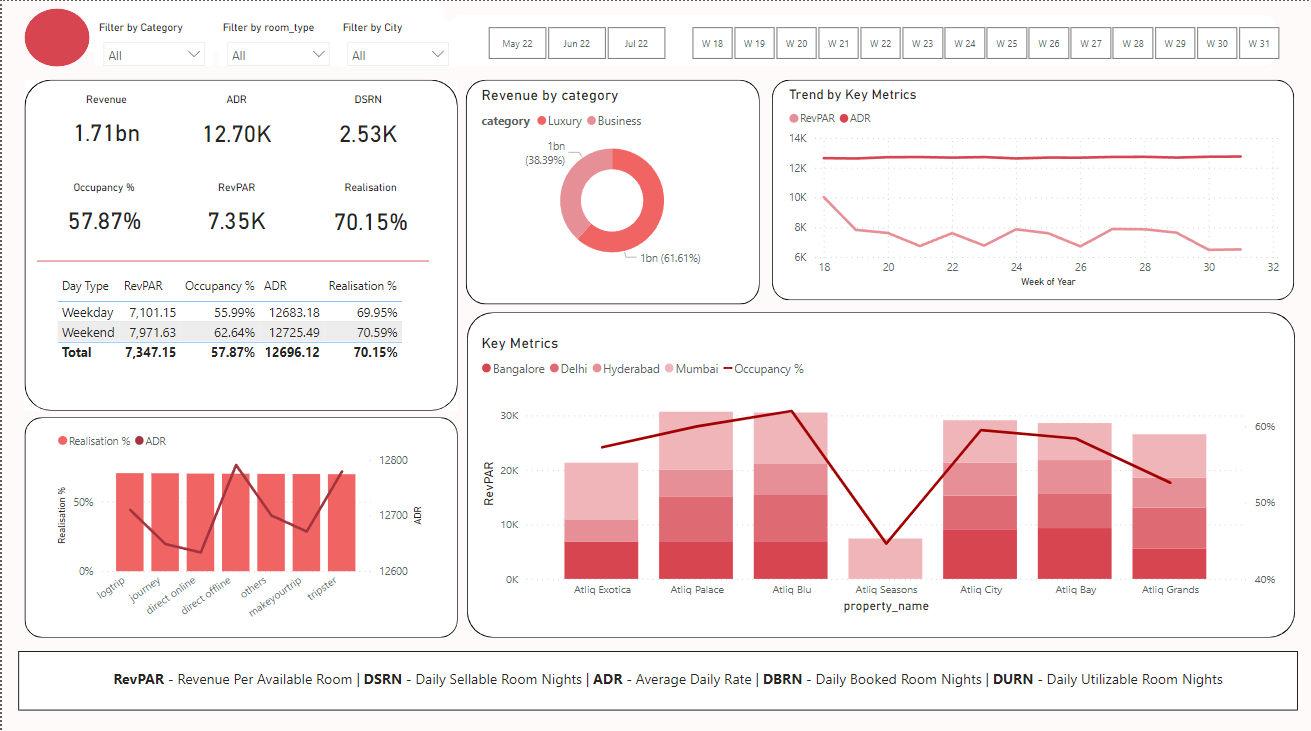

Layout of this report page (visuals, bound fields, positions):
{"tool":"powerbi","page":{"name":"Page 1","canvas":[1500,840],"ordinal":0},"visuals":[{"type":"shape","box":[18.9,743.3,1462.2,67.8],"z":0},{"type":"shape","box":[530.3,89.3,336,257],"z":1000},{"type":"shape","box":[25.3,476.3,495,252],"z":2000},{"type":"shape","box":[71,0,435,58],"z":3000},{"type":"shape","box":[25.3,89.3,495,378.8],"z":4000},{"type":"card","title":"ADR","fields":{"Values":["Measures Table.ADR"]},"box":[204.2,106.1,127,75],"z":5000},{"type":"card","title":"Revenue","fields":{"Values":["Measures Table.Revenue"]},"box":[55.1,106.4,127.3,74.5],"z":6000},{"type":"card","title":"Occupancy %","fields":{"Values":["Measures Table.Occupancy %"]},"box":[53.3,206.4,127.3,74.5],"z":7000},{"type":"card","title":"RevPAR","fields":{"Values":["Measures Table.RevPAR"]},"box":[204.2,206.4,127.3,74.5],"z":8000},{"type":"card","title":"DSRN","fields":{"Values":["Measures Table.DSRN"]},"box":[354.2,106.2,128,75.5],"z":9000},{"type":"card","title":"Realisation","fields":{"Values":["Measures Table.Realisation %"]},"box":[354.2,206.2,133.6,76.4],"z":10000},{"type":"slicer","title":"Filter by City","fields":{"Values":["dim_hotels.city"]},"box":[384.3,22.3,136,53],"z":11000},{"type":"slicer","title":"Filter by Category","fields":{"Values":["dim_hotels.category"]},"box":[106.3,22.3,136,51],"z":12000},{"type":"slicer","title":"Filter by room_type","fields":{"Values":["fact_bookings.room_category"]},"box":[247.3,22.3,137,51],"z":13000},{"type":"shape","box":[511.8,15.6,945,58],"z":14000},{"type":"slicer","title":"Month","fields":{"Values":["dim_date.mmm yy"]},"box":[530.3,22.3,252,50],"z":15000},{"type":"slicer","fields":{"Values":["dim_date.WEEK NUMBER"]},"box":[763.3,22.3,721,50],"z":16000},{"type":"tableEx","fields":{"Values":["dim_date.Day Type","Measures Table.RevPAR","Measures Table.Occupancy %","Measures Table.ADR","Measures Table.Realisation %"]},"box":[56.5,310.6,433.8,137.5],"z":17000},{"type":"shape","box":[39.7,280.4,447.8,34.4],"z":18000},{"type":"lineStackedColumnComboChart","fields":{"Category":["fact_bookings.booking_platform"],"Y":["Measures Table.Realisation %"],"Y2":["Measures Table.ADR"]},"box":[59.3,483.3,428,238],"z":19000},{"type":"donutChart","fields":{"Y":["Measures Table.Revenue"],"Category":["dim_hotels.category"]},"box":[543.3,97.3,309,213],"z":21000},{"type":"shape","box":[880.3,89.3,597,252],"z":22000},{"type":"lineChart","title":"Trend by Key Metrics","fields":{"Y":["Measures Table.RevPAR","Measures Table.ADR"],"Category":["dim_date.Week of Year"]},"box":[894.3,97.3,573,235],"z":23000},{"type":"shape","box":[530.8,356,946.7,372.2],"z":24000},{"type":"lineStackedColumnComboChart","title":"Key Metrics","fields":{"Category":["dim_hotels.property_name"],"Y":["Measures Table.RevPAR"],"Series":["dim_hotels.city"],"Y2":["Measures Table.Occupancy %"]},"box":[543.1,380.4,916.7,324.4],"z":25000},{"type":"textbox","box":[27.8,758.9,1472.2,43.3],"z":26000},{"type":"shape","box":[25,9,74,66],"z":26001}]}

Visuals, with their boxes in screenshot pixels (x1, y1, x2, y2), scaled from the page's 1500x840 canvas onto the 1311x731 screenshot:
shape: Rect(17, 647, 1294, 706)
shape: Rect(463, 78, 757, 301)
shape: Rect(22, 414, 455, 634)
shape: Rect(62, 0, 442, 50)
shape: Rect(22, 78, 455, 407)
"ADR" card: Rect(178, 92, 289, 158)
"Revenue" card: Rect(48, 93, 159, 157)
"Occupancy %" card: Rect(47, 180, 158, 244)
"RevPAR" card: Rect(178, 180, 290, 244)
"DSRN" card: Rect(310, 92, 421, 158)
"Realisation" card: Rect(310, 179, 426, 246)
"Filter by City" slicer: Rect(336, 19, 455, 66)
"Filter by Category" slicer: Rect(93, 19, 212, 64)
"Filter by room_type" slicer: Rect(216, 19, 336, 64)
shape: Rect(447, 14, 1273, 64)
"Month" slicer: Rect(463, 19, 684, 63)
slicer - dim_date.WEEK NUMBER: Rect(667, 19, 1297, 63)
tableEx - dim_date.Day Type x Measures Table.RevPAR: Rect(49, 270, 429, 390)
shape: Rect(35, 244, 426, 274)
lineStackedColumnComboChart - fact_bookings.booking_platform x Measures Table.Realisation %: Rect(52, 421, 426, 628)
donutChart - Measures Table.Revenue x dim_hotels.category: Rect(475, 85, 745, 270)
shape: Rect(769, 78, 1291, 297)
"Trend by Key Metrics" lineChart: Rect(782, 85, 1282, 289)
shape: Rect(464, 310, 1291, 634)
"Key Metrics" lineStackedColumnComboChart: Rect(475, 331, 1276, 613)
textbox: Rect(24, 660, 1310, 698)
shape: Rect(22, 8, 87, 65)
